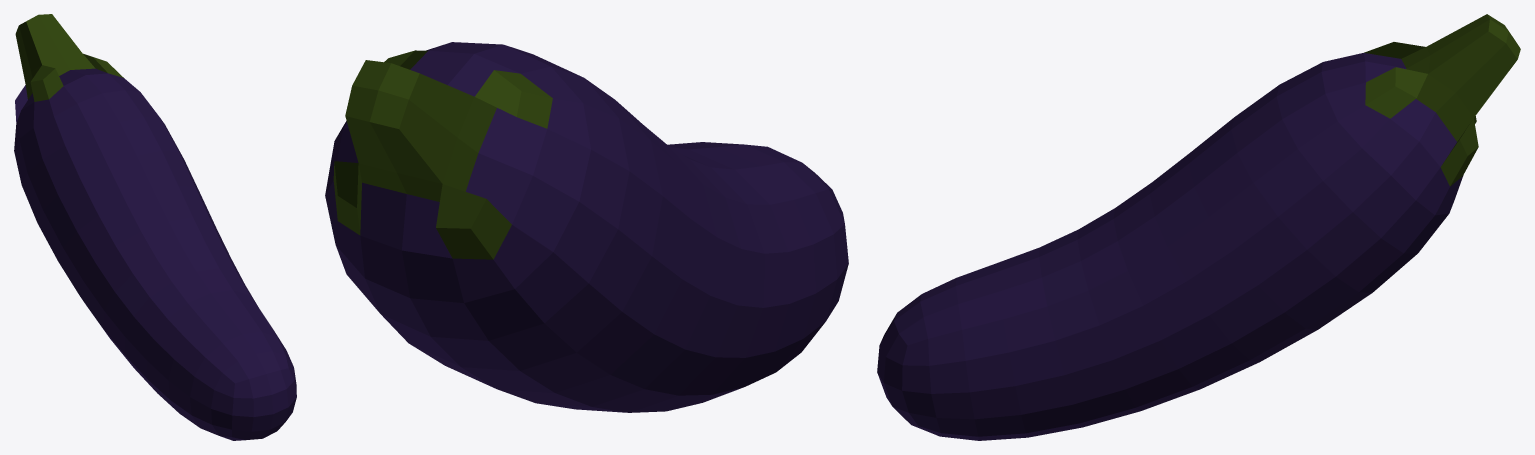
File: cabbage.fbx
3 renders of one model, left to right at view 1: azimuth 30°, elevation 25°; view 2: azimuth 150°, elevation 25°; view 3: azimuth 270°, elevation 25°, orthographic. The views are drawn at different scales.
Parts seen in each view (by area): view 1: Cube; view 2: Cube; view 3: Cube.
Part boxes in pixels (left/top/right/bottom): Cube: left=14, top=14, right=296, bottom=440; Cube: left=325, top=42, right=848, bottom=412; Cube: left=877, top=14, right=1520, bottom=440.
Size of the model in its own units: 219 by 435 by 630.
